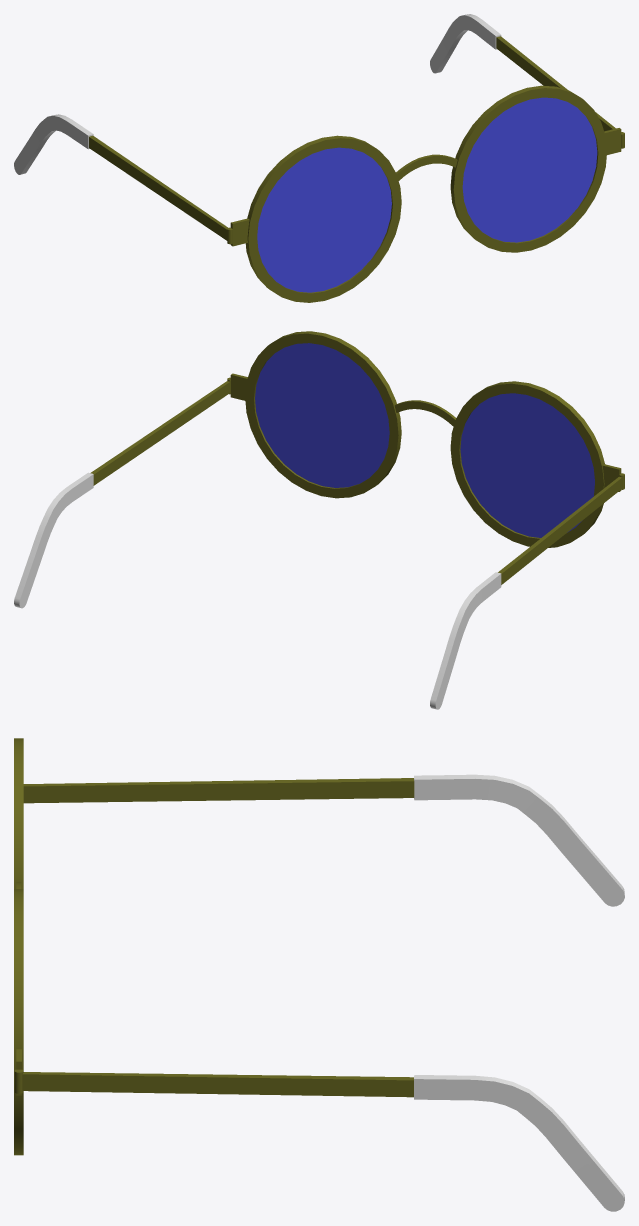
File: round_wire.glb
3 views of the same model, one above another, from view 1: azimuth 30°, elevation 25°; view 2: azimuth 150°, elevation 25°; view 3: azimuth 270°, elevation 25° (orthographic). The views are drawn at different scales.
Visible parts, largest first — view 1: glasses3.001_glasses3.001_Glass, glasses3.001_glasses3.001_Gold, glasses3.001_glasses3.001_black; view 2: glasses3.001_glasses3.001_Glass, glasses3.001_glasses3.001_Gold, glasses3.001_glasses3.001_black; view 3: glasses3.001_glasses3.001_Gold, glasses3.001_glasses3.001_black.
Boxes of the visible parts, bbox=[...] form: glasses3.001_glasses3.001_Glass: bbox=[257, 97, 597, 292]; glasses3.001_glasses3.001_Gold: bbox=[89, 36, 624, 302]; glasses3.001_glasses3.001_black: bbox=[14, 14, 501, 174]; glasses3.001_glasses3.001_Glass: bbox=[255, 343, 594, 537]; glasses3.001_glasses3.001_Gold: bbox=[90, 331, 624, 584]; glasses3.001_glasses3.001_black: bbox=[14, 472, 501, 709]; glasses3.001_glasses3.001_Gold: bbox=[14, 738, 414, 1155]; glasses3.001_glasses3.001_black: bbox=[414, 774, 624, 1211].
Size of the model in its own units: 1.94 by 0.7074 by 1.62.
